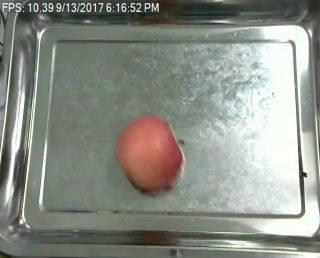Apple: (114, 113, 184, 190)
